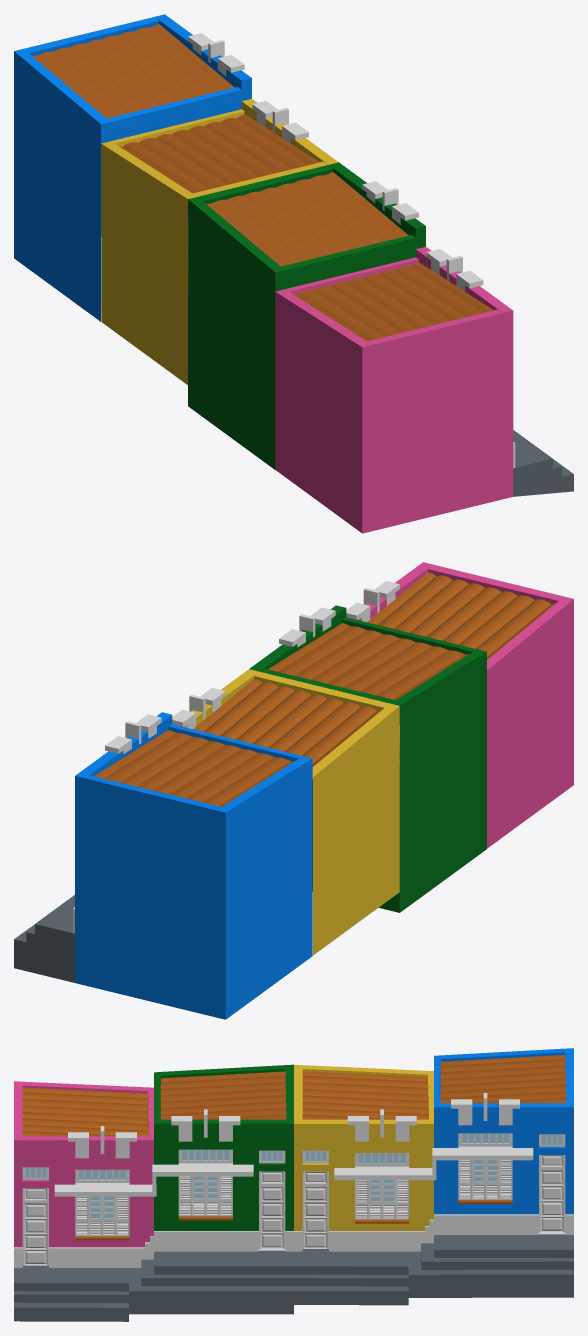
File: casa interior.fbx
3 renders of one model, top to bottom at view 1: azimuth 30°, elevation 25°; view 2: azimuth 150°, elevation 25°; view 3: azimuth 270°, elevation 25°, orthographic. The views are drawn at different scales.
Parts seen in each view (by area): view 1: Cubo.004, Cubo; view 2: Cubo, Cubo.004; view 3: Cubo.004, Cubo.
Boxes of the visible parts, left/top/right/bottom form: Cubo.004: left=188, top=162, right=573, bottom=533; Cubo: left=14, top=14, right=338, bottom=384; Cubo: left=14, top=669, right=399, bottom=1019; Cubo.004: left=249, top=562, right=573, bottom=912; Cubo.004: left=14, top=1064, right=293, bottom=1321; Cubo: left=294, top=1048, right=573, bottom=1305.
Size of the model in its own units: 2.81 by 3.17 by 8.
